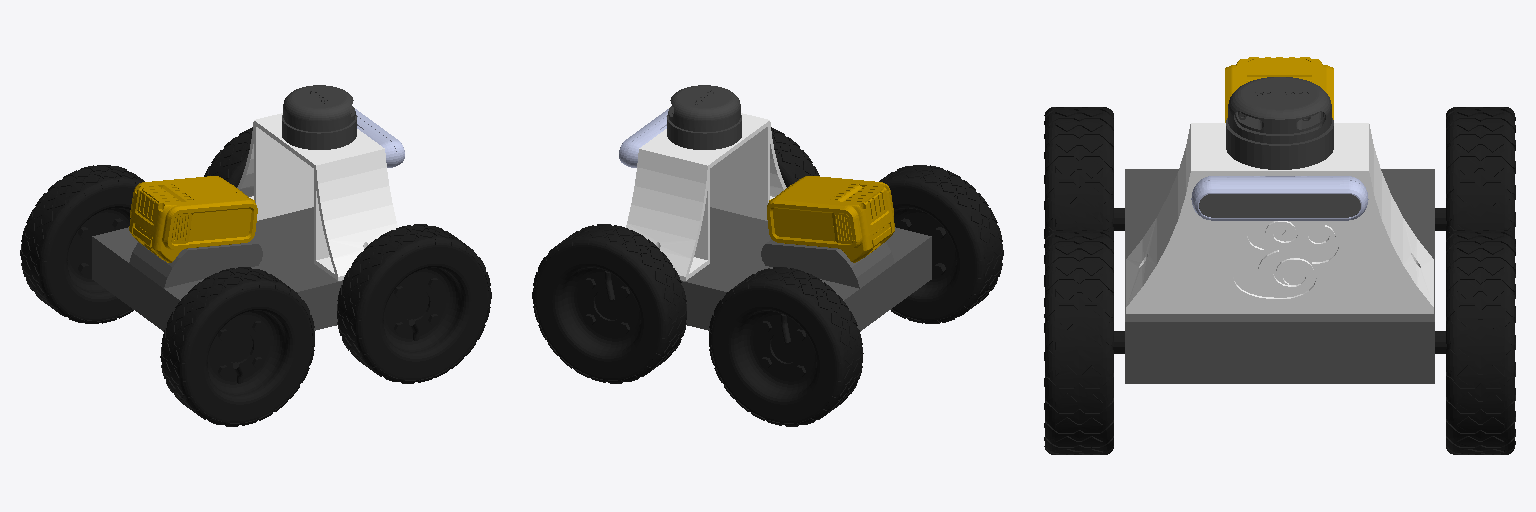
URDF robot description (scout):
<?xml version="1.0" encoding="utf-8"?>
<!-- This URDF was automatically created by SolidWorks to URDF Exporter! Originally created by Stephen Brawner (brawner@gmail.com) 
     Commit Version: 1.6.0-4-g7f85cfe  Build Version: 1.6.7995.38578
     For more information, please see http://wiki.ros.org/sw_urdf_exporter -->
<robot
  name="scout">
  <link
    name="base_footprint" />
  <joint
    name="base_footprint_to_base"
    type="fixed">
    <origin
      xyz="0 0 0.058995"
      rpy="0 0 1.5707963267949" />
    <parent
      link="base_footprint" />
    <child
      link="base_link" />
    <axis
      xyz="0 0 0" />
  </joint>
  <link
    name="base_link">
    <inertial>
      <origin
        xyz="-4.44071793674556E-05 0.0303287182421505 -0.0179374628705869"
        rpy="0 0 0" />
      <mass
        value="0.864156867595008" />
      <inertia
        ixx="0.00431032124064571"
        ixy="-3.53029456457024E-07"
        ixz="-1.07700421222418E-06"
        iyy="0.00710449075892212"
        iyz="0.000116062808345191"
        izz="0.00299632589411927" />
    </inertial>
    <visual>
      <origin
        xyz="0 0 0"
        rpy="0 0 0" />
      <geometry>
        <mesh
          filename="package://scout/meshes/base_link.STL" />
      </geometry>
      <material
        name="">
        <color
          rgba="0.4 0.4 0.4 1" />
      </material>
    </visual>
    <collision>
      <origin
        xyz="0 0 0"
        rpy="0 0 0" />
      <geometry>
        <mesh
          filename="package://scout/meshes/base_link.STL" />
      </geometry>
    </collision>
  </link>
  <link
    name="mount_link">
    <inertial>
      <origin
        xyz="-1.77292440872789E-05 0.0538886970205137 0.00798750195538396"
        rpy="0 0 0" />
      <mass
        value="0.317705199243205" />
      <inertia
        ixx="0.000648454880810809"
        ixy="4.05973525199438E-07"
        ixz="1.84279755908091E-07"
        iyy="0.00150040954683933"
        iyz="1.32356431162014E-05"
        izz="0.00173181647767026" />
    </inertial>
    <visual>
      <origin
        xyz="0 0 0"
        rpy="0 0 0" />
      <geometry>
        <mesh
          filename="package://scout/meshes/mount_link.STL" />
      </geometry>
      <material
        name="">
        <color
          rgba="1 1 1 1" />
      </material>
    </visual>
    <collision>
      <origin
        xyz="0 0 0"
        rpy="0 0 0" />
      <geometry>
        <mesh
          filename="package://scout/meshes/mount_link.STL" />
      </geometry>
    </collision>
  </link>
  <joint
    name="mount_to_base"
    type="fixed">
    <origin
      xyz="0 -0.0735 0.047625"
      rpy="1.5707963267949 0 0" />
    <parent
      link="base_link" />
    <child
      link="mount_link" />
    <axis
      xyz="0 0 0" />
  </joint>
  <link
    name="camera_link">
    <inertial>
      <origin
        xyz="0.000275801445357464 0.000292484892556899 -0.0135755309639161"
        rpy="0 0 0" />
      <mass
        value="0.0236821589214842" />
      <inertia
        ixx="2.80951708447851E-06"
        ixy="2.72720914983653E-08"
        ixz="-1.36837494407851E-08"
        iyy="3.23824905596586E-05"
        iyz="-2.61327113993963E-08"
        izz="3.45235586614437E-05" />
    </inertial>
    <visual>
      <origin
        xyz="0 0 0"
        rpy="0 0 0" />
      <geometry>
        <mesh
          filename="package://scout/meshes/camera_link.STL" />
      </geometry>
      <material
        name="">
        <color
          rgba="0.792156862745098 0.819607843137255 0.933333333333333 1" />
      </material>
    </visual>
    <collision>
      <origin
        xyz="0 0 0"
        rpy="0 0 0" />
      <geometry>
        <mesh
          filename="package://scout/meshes/camera_link.STL" />
      </geometry>
    </collision>
  </link>
  <joint
    name="camera_to_mount"
    type="fixed">
    <origin
      xyz="0 0.0955 0.066"
      rpy="0 0 0" />
    <parent
      link="mount_link" />
    <child
      link="camera_link" />
    <axis
      xyz="0 0 0" />
  </joint>
  <link
    name="lens_link">
    <inertial>
      <origin
        xyz="6.51306204212236E-16 0 -0.000374999999999986"
        rpy="0 0 0" />
      <mass
        value="0.00111062343059037" />
      <inertia
        ixx="3.04707470445964E-08"
        ixy="5.88073716736949E-22"
        ixz="3.21451352546695E-22"
        iyy="1.11409811311008E-06"
        iyz="-3.92852730800091E-24"
        izz="1.14451303350383E-06" />
    </inertial>
    <visual>
      <origin
        xyz="0 0 0"
        rpy="0 0 0" />
      <geometry>
        <mesh
          filename="package://scout/meshes/lens_link.STL" />
      </geometry>
      <material
        name="">
        <color
          rgba="0.4 0.4 0.4 1" />
      </material>
    </visual>
    <collision>
      <origin
        xyz="0 0 0"
        rpy="0 0 0" />
      <geometry>
        <mesh
          filename="package://scout/meshes/lens_link.STL" />
      </geometry>
    </collision>
  </link>
  <joint
    name="lens_to_camera"
    type="fixed">
    <origin
      xyz="0 0 0"
      rpy="0 0 0" />
    <parent
      link="camera_link" />
    <child
      link="lens_link" />
    <axis
      xyz="0 0 0" />
  </joint>
  <link
    name="lidar2_link">
    <inertial>
      <origin
        xyz="-2.23945425510688E-15 0.0121144991864106 -1.21936715904852E-05"
        rpy="0 0 0" />
      <mass
        value="0.10773590450219" />
      <inertia
        ixx="4.26802409371355E-05"
        ixy="-2.54316954448302E-20"
        ixz="4.52994793513263E-21"
        iyy="7.46209690453417E-05"
        iyz="-1.17766288567912E-08"
        izz="4.27190109949372E-05" />
    </inertial>
    <visual>
      <origin
        xyz="0 0 0"
        rpy="0 0 0" />
      <geometry>
        <mesh
          filename="package://scout/meshes/lidar2_link.STL" />
      </geometry>
      <material
        name="">
        <color
          rgba="0.298039215686275 0.298039215686275 0.298039215686275 1" />
      </material>
    </visual>
    <collision>
      <origin
        xyz="0 0 0"
        rpy="0 0 0" />
      <geometry>
        <mesh
          filename="package://scout/meshes/lidar2_link.STL" />
      </geometry>
    </collision>
  </link>
  <joint
    name="lidar2_to_mount"
    type="fixed">
    <origin
      xyz="0 0.11 0"
      rpy="0 0 0" />
    <parent
      link="mount_link" />
    <child
      link="lidar2_link" />
    <axis
      xyz="0 0 0" />
  </joint>
  <link
    name="lidar1_link">
    <inertial>
      <origin
        xyz="-6.79574933765504E-05 0.0127582411749808 -0.00287746513955325"
        rpy="0 0 0" />
      <mass
        value="0.0553297198723754" />
      <inertia
        ixx="1.77198950595598E-05"
        ixy="-5.03884612350031E-09"
        ixz="3.9064271323067E-08"
        iyy="3.29681714130268E-05"
        iyz="-2.52552357302916E-07"
        izz="1.80448064070794E-05" />
    </inertial>
    <visual>
      <origin
        xyz="0 0 0"
        rpy="0 0 0" />
      <geometry>
        <mesh
          filename="package://scout/meshes/lidar1_link.STL" />
      </geometry>
      <material
        name="">
        <color
          rgba="0.298039215686275 0.298039215686275 0.298039215686275 1" />
      </material>
    </visual>
    <collision>
      <origin
        xyz="0 0 0"
        rpy="0 0 0" />
      <geometry>
        <mesh
          filename="package://scout/meshes/lidar1_link.STL" />
      </geometry>
    </collision>
  </link>
  <joint
    name="lidar1_to_lidar2"
    type="continuous">
    <origin
      xyz="0 0.0199 0"
      rpy="0 0 0" />
    <parent
      link="lidar2_link" />
    <child
      link="lidar1_link" />
    <axis
      xyz="0 1 0" />
  </joint>
  <link
    name="battery_link">
    <inertial>
      <origin
        xyz="-0.00215522422127348 -0.00032768043128724 0.00713878932943199"
        rpy="0 0 0" />
      <mass
        value="0.426563659336353" />
      <inertia
        ixx="0.000283504609659175"
        ixy="-6.89918097626904E-08"
        ixz="-1.33986881704593E-05"
        iyy="0.000525356328181379"
        iyz="1.12577942792819E-08"
        izz="0.000594147044852788" />
    </inertial>
    <visual>
      <origin
        xyz="0 0 0"
        rpy="0 0 0" />
      <geometry>
        <mesh
          filename="package://scout/meshes/battery_link.STL" />
      </geometry>
      <material
        name="">
        <color
          rgba="0.780392156862745 0.603921568627451 0 1" />
      </material>
    </visual>
    <collision>
      <origin
        xyz="0 0 0"
        rpy="0 0 0" />
      <geometry>
        <mesh
          filename="package://scout/meshes/battery_link.STL" />
      </geometry>
    </collision>
  </link>
  <joint
    name="battery_to_base"
    type="fixed">
    <origin
      xyz="0 0.073481 0.093912"
      rpy="0 0.14531 -1.5708" />
    <parent
      link="base_link" />
    <child
      link="battery_link" />
    <axis
      xyz="0 1 0" />
  </joint>
  <link
    name="wheel1_link">
    <inertial>
      <origin
        xyz="0.0315846225812721 3.23275454438762E-05 -6.8859987008979E-06"
        rpy="0 0 0" />
      <mass
        value="0.661363334175707" />
      <inertia
        ixx="0.0025278923615894"
        ixy="-1.7476472296503E-07"
        ixz="5.12044973410444E-08"
        iyy="0.0013738260392482"
        iyz="7.8687536248987E-08"
        izz="0.00137430265184139" />
    </inertial>
    <visual>
      <origin
        xyz="0 0 0"
        rpy="0 0 0" />
      <geometry>
        <mesh
          filename="package://scout/meshes/wheel_link.STL" />
      </geometry>
      <material
        name="">
        <color
          rgba="0.149019607843137 0.149019607843137 0.149019607843137 1" />
      </material>
    </visual>
    <collision>
      <origin
        xyz="0 0 0"
        rpy="0 0 0" />
      <geometry>
        <mesh
          filename="package://scout/meshes/wheel_link.STL" />
      </geometry>
    </collision>
  </link>
  <joint
    name="wheel1_to_base"
    type="continuous">
    <origin
      xyz="0.10875 -0.102 0.02"
      rpy="1.5708 0 0" />
    <parent
      link="base_link" />
    <child
      link="wheel1_link" />
    <axis
      xyz="1 0 0" />
  </joint>
  <link
    name="wheel2_link">
    <inertial>
      <origin
        xyz="0.0315846225812754 3.23275454512835E-05 -6.88599869987094E-06"
        rpy="0 0 0" />
      <mass
        value="0.661363334175702" />
      <inertia
        ixx="0.00252789236158939"
        ixy="-1.74764722966114E-07"
        ixz="5.12044973394248E-08"
        iyy="0.0013738260392482"
        iyz="7.8687536244967E-08"
        izz="0.00137430265184137" />
    </inertial>
    <visual>
      <origin
        xyz="0 0 0"
        rpy="0 0 0" />
      <geometry>
        <mesh
          filename="package://scout/meshes/wheel_link.STL" />
      </geometry>
      <material
        name="">
        <color
          rgba="0.149019607843137 0.149019607843137 0.149019607843137 1" />
      </material>
    </visual>
    <collision>
      <origin
        xyz="0 0 0"
        rpy="0 0 0" />
      <geometry>
        <mesh
          filename="package://scout/meshes/wheel_link.STL" />
      </geometry>
    </collision>
  </link>
  <joint
    name="wheel2_to_base"
    type="continuous">
    <origin
      xyz="-0.10875 -0.102 0.02"
      rpy="-1.5708 0 -3.1416" />
    <parent
      link="base_link" />
    <child
      link="wheel2_link" />
    <axis
      xyz="1 0 0" />
  </joint>
  <link
    name="wheel3_link">
    <inertial>
      <origin
        xyz="0.0315846225812721 3.23275454441573E-05 -6.88599870088402E-06"
        rpy="0 0 0" />
      <mass
        value="0.661363334175702" />
      <inertia
        ixx="0.00252789236158939"
        ixy="-1.74764722966179E-07"
        ixz="5.12044973401261E-08"
        iyy="0.0013738260392482"
        iyz="7.86875362469148E-08"
        izz="0.00137430265184138" />
    </inertial>
    <visual>
      <origin
        xyz="0 0 0"
        rpy="0 0 0" />
      <geometry>
        <mesh
          filename="package://scout/meshes/wheel_link.STL" />
      </geometry>
      <material
        name="">
        <color
          rgba="0.149019607843137 0.149019607843137 0.149019607843137 1" />
      </material>
    </visual>
    <collision>
      <origin
        xyz="0 0 0"
        rpy="0 0 0" />
      <geometry>
        <mesh
          filename="package://scout/meshes/wheel_link.STL" />
      </geometry>
    </collision>
  </link>
  <joint
    name="wheel3_to_base"
    type="continuous">
    <origin
      xyz="-0.10875 0.102 0.02"
      rpy="-1.5708 0 3.1416" />
    <parent
      link="base_link" />
    <child
      link="wheel3_link" />
    <axis
      xyz="1 0 0" />
  </joint>
  <link
    name="wheel4_link">
    <inertial>
      <origin
        xyz="0.031584622581272 3.23275454440879E-05 -6.88599870093953E-06"
        rpy="0 0 0" />
      <mass
        value="0.661363334175704" />
      <inertia
        ixx="0.00252789236158939"
        ixy="-1.74764722966938E-07"
        ixz="5.12044973411128E-08"
        iyy="0.0013738260392482"
        iyz="7.86875362485362E-08"
        izz="0.00137430265184138" />
    </inertial>
    <visual>
      <origin
        xyz="0 0 0"
        rpy="0 0 0" />
      <geometry>
        <mesh
          filename="package://scout/meshes/wheel_link.STL" />
      </geometry>
      <material
        name="">
        <color
          rgba="0.149019607843137 0.149019607843137 0.149019607843137 1" />
      </material>
    </visual>
    <collision>
      <origin
        xyz="0 0 0"
        rpy="0 0 0" />
      <geometry>
        <mesh
          filename="package://scout/meshes/wheel_link.STL" />
      </geometry>
    </collision>
  </link>
  <joint
    name="wheel4_to_base"
    type="continuous">
    <origin
      xyz="0.10875 0.102 0.02"
      rpy="1.5707963267949 0 0" />
    <parent
      link="base_link" />
    <child
      link="wheel4_link" />
    <axis
      xyz="1 0 0" />
  </joint>
</robot>

--- Facts derived from the render (not from the file) ---
The picture shows the robot from 3 angles, left to right: view 1: azimuth 30°, elevation 25°; view 2: azimuth 150°, elevation 25°; view 3: azimuth 270°, elevation 25°; orthographic projection.
Model scout with 12 links and 11 joints (5 continuous, 6 fixed), rooted at base_footprint, posed every joint at zero.
Links seen in each view (by area): view 1: wheel2_link, wheel3_link, mount_link, base_link, wheel4_link, battery_link, lidar1_link, lidar2_link, wheel1_link, camera_link; view 2: wheel1_link, wheel4_link, mount_link, base_link, wheel3_link, battery_link, lidar1_link, lidar2_link, wheel2_link, camera_link; view 3: mount_link, base_link, wheel1_link, wheel2_link, wheel4_link, wheel3_link, lidar1_link, camera_link, lens_link, lidar2_link, battery_link.
Link boxes in pixels (x1=…): wheel2_link: x1=337, y1=224, x2=491, y2=383; wheel3_link: x1=160, y1=267, x2=314, y2=426; mount_link: x1=237, y1=113, x2=397, y2=280; base_link: x1=92, y1=207, x2=342, y2=331; wheel4_link: x1=20, y1=165, x2=144, y2=323; battery_link: x1=129, y1=176, x2=257, y2=262; lidar1_link: x1=283, y1=85, x2=355, y2=131; lidar2_link: x1=282, y1=115, x2=356, y2=149; wheel1_link: x1=204, y1=127, x2=252, y2=187; camera_link: x1=355, y1=109, x2=404, y2=167; wheel1_link: x1=532, y1=224, x2=686, y2=383; wheel4_link: x1=709, y1=267, x2=863, y2=426; mount_link: x1=626, y1=113, x2=786, y2=280; base_link: x1=681, y1=207, x2=931, y2=331; wheel3_link: x1=879, y1=165, x2=1003, y2=323; battery_link: x1=767, y1=176, x2=894, y2=262; lidar1_link: x1=668, y1=85, x2=740, y2=131; lidar2_link: x1=667, y1=115, x2=741, y2=149; wheel2_link: x1=771, y1=127, x2=819, y2=187; camera_link: x1=619, y1=109, x2=668, y2=167; mount_link: x1=1126, y1=123, x2=1433, y2=313; base_link: x1=1125, y1=169, x2=1434, y2=383; wheel1_link: x1=1435, y1=230, x2=1515, y2=454; wheel2_link: x1=1044, y1=230, x2=1124, y2=454; wheel4_link: x1=1435, y1=107, x2=1515, y2=307; wheel3_link: x1=1044, y1=107, x2=1124, y2=323; lidar1_link: x1=1228, y1=77, x2=1331, y2=142; camera_link: x1=1191, y1=176, x2=1368, y2=220; lens_link: x1=1199, y1=194, x2=1360, y2=217; lidar2_link: x1=1226, y1=118, x2=1333, y2=169; battery_link: x1=1225, y1=57, x2=1333, y2=122.
Size in the robot's own frame: 0.362 by 0.3299 by 0.2579 metres.
11 mesh visuals loaded from 8 distinct referenced files (8 binary STL).
